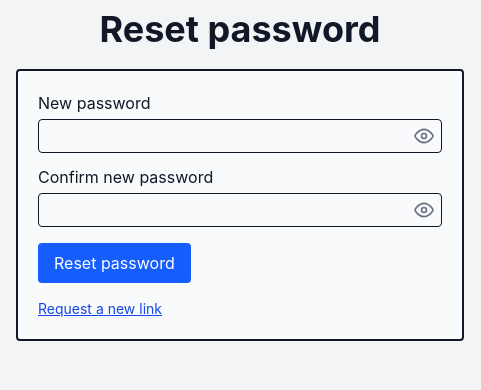
Test: ResetPassword › checks that the passwords match before sending
This screenshot has width=481, height=390.
Type "newpassword456" into the password field labelled "New password".
click(240, 136); type("newpassword456")  # box [38,119,442,153]
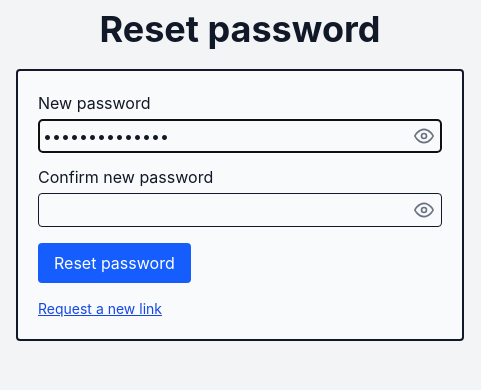
Type "different456" into the password field labelled "Confirm new password".
click(240, 210); type("different456")  # box [38,193,442,227]
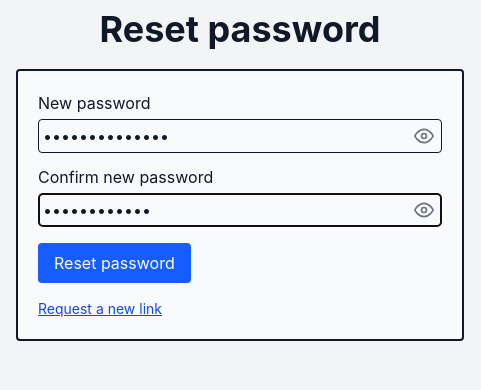
Click the button "Reset password".
click(114, 263)  # box [38,243,191,283]
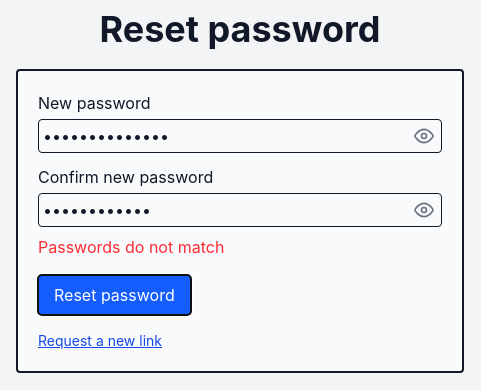
Check: the message reads "Passwords do not match", box [38,237,224,257]
